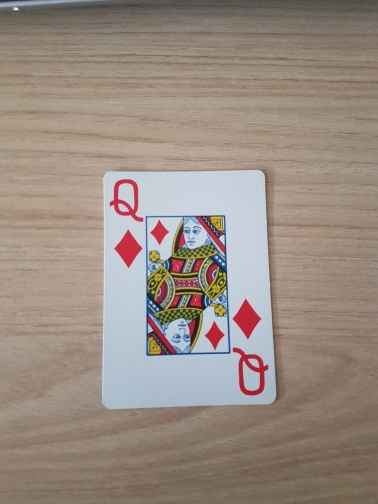queen: (101, 168, 276, 409)
